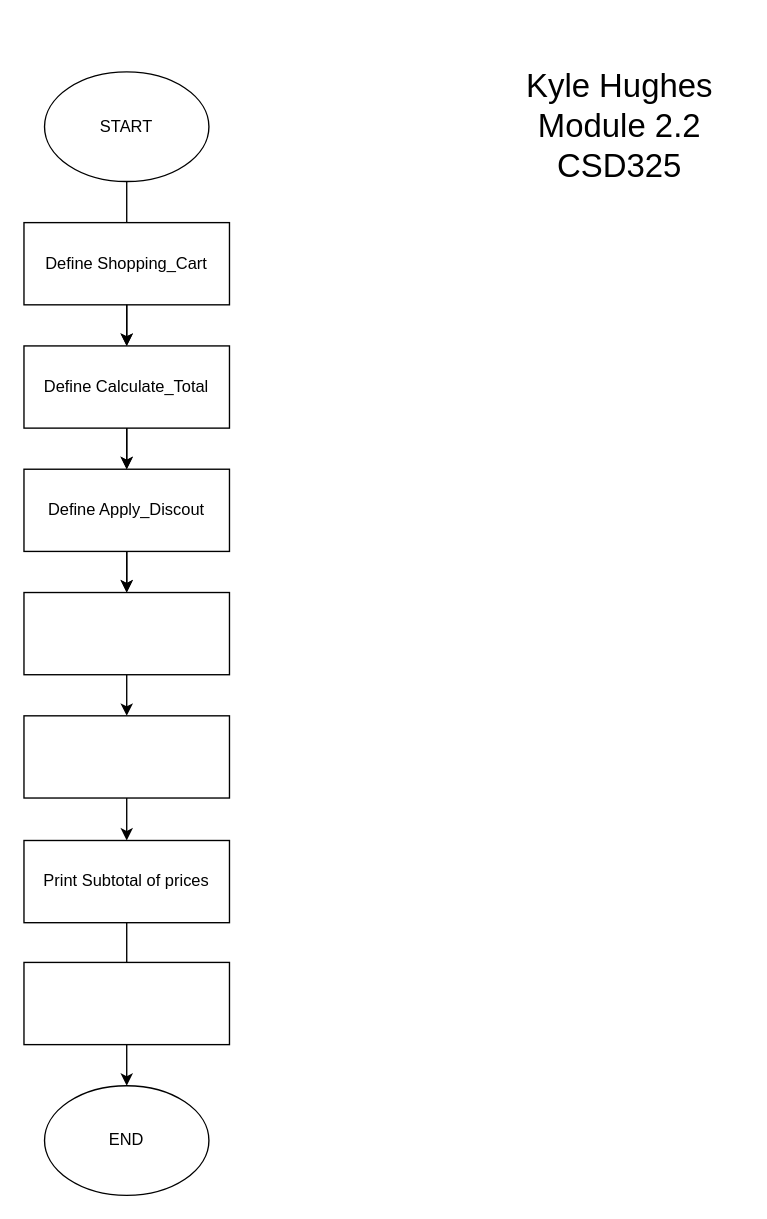
Some shapes in this 767 by 1219 pixel diagram are drawn without their labels. Each missing label, with the centre of its shape:
Print Discount: (126,1003)
Print Shopping cart from list: (126,756)
Run Shopping_Cart: (126,633)
